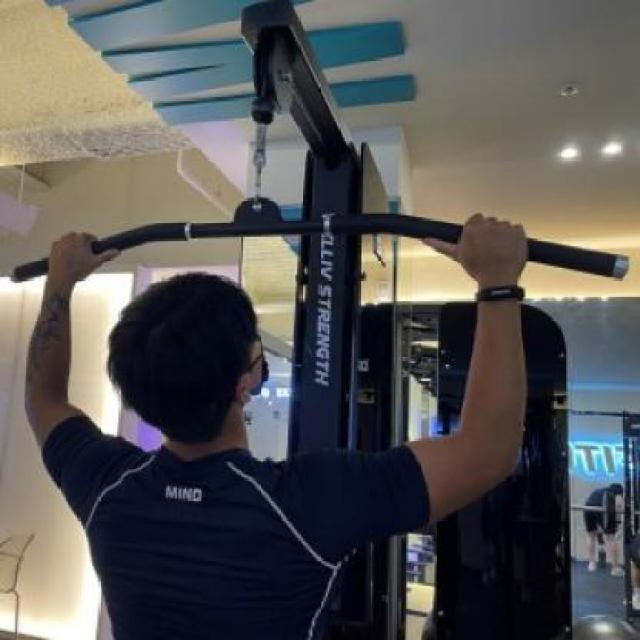Lat Pull Down: (10, 0, 632, 640)
